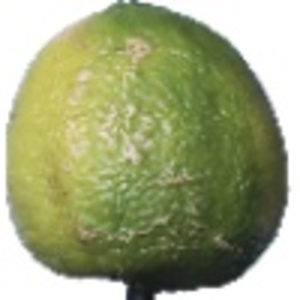limão: (4, 1, 289, 300)
